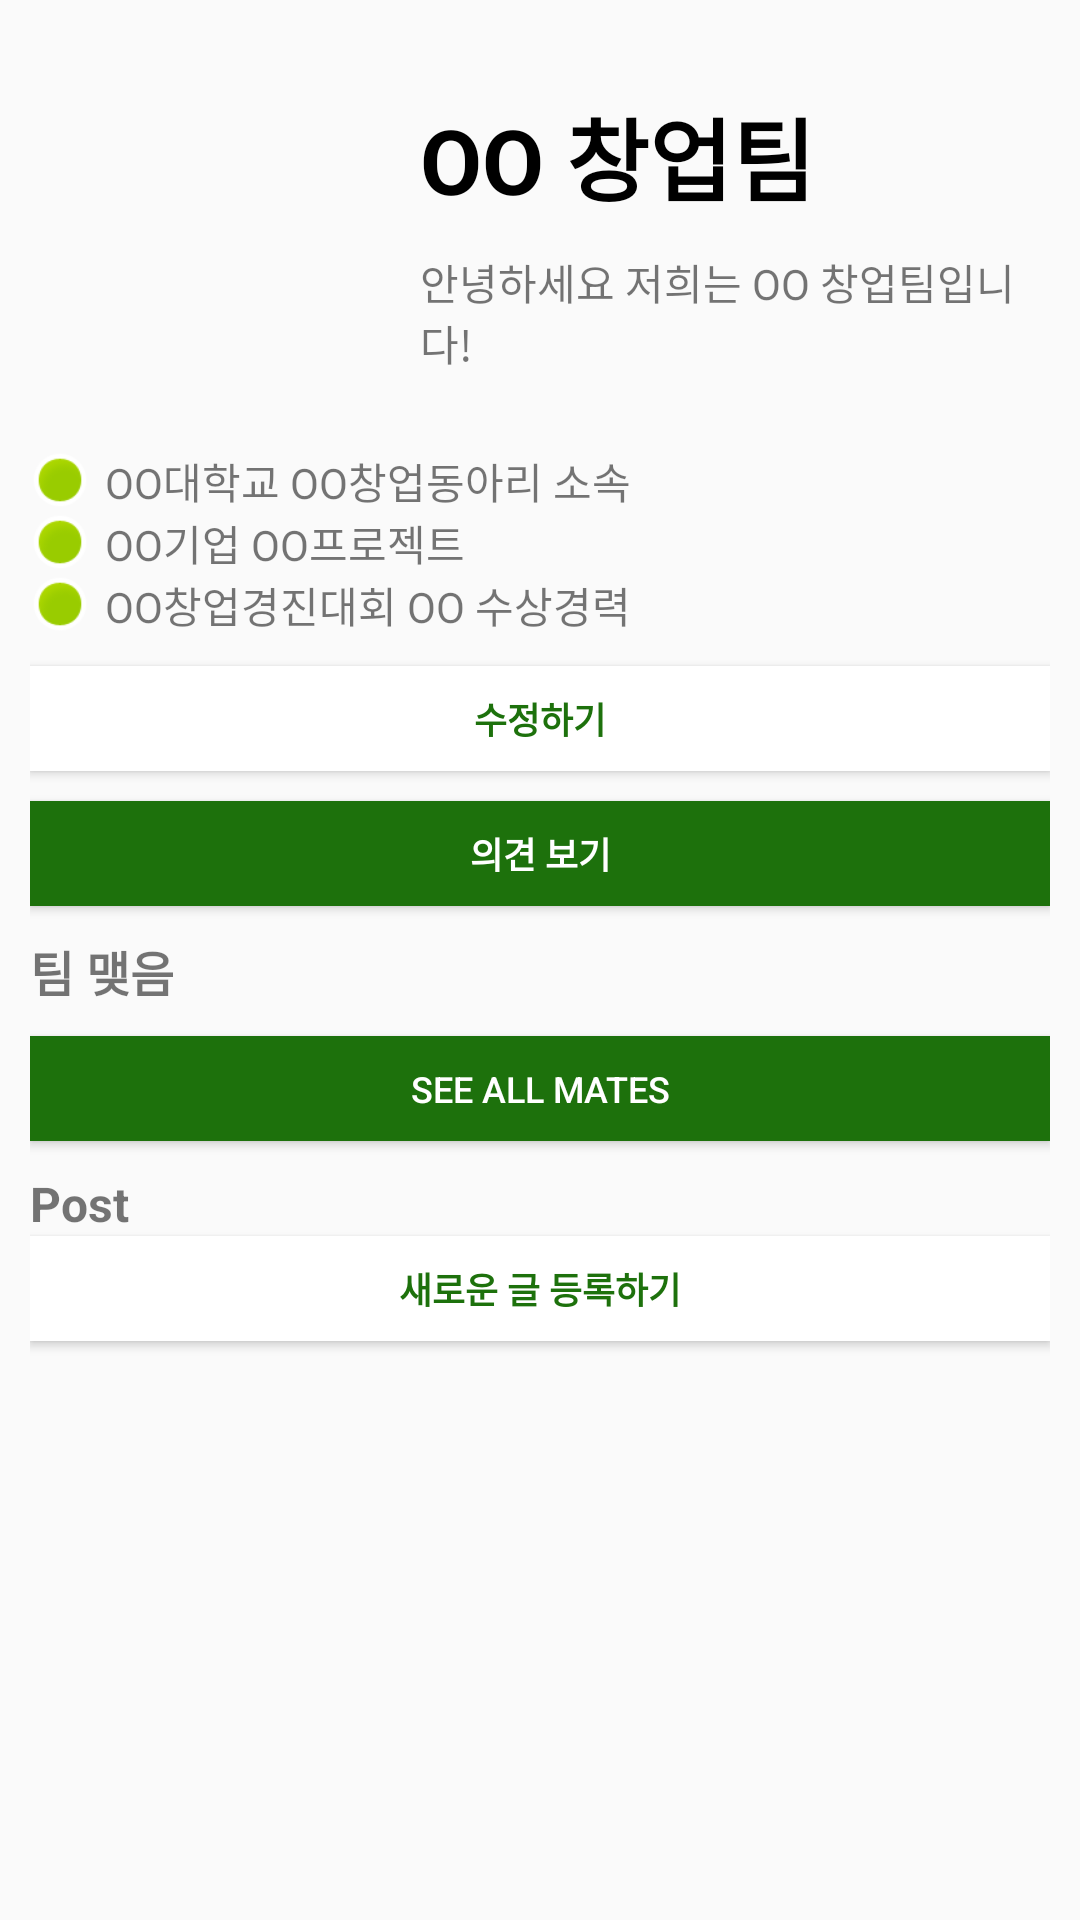

Icon click points for this 1080×1920 phone screenshot, format [x,y]:
presence online: [60,480], [60,542], [60,604]
